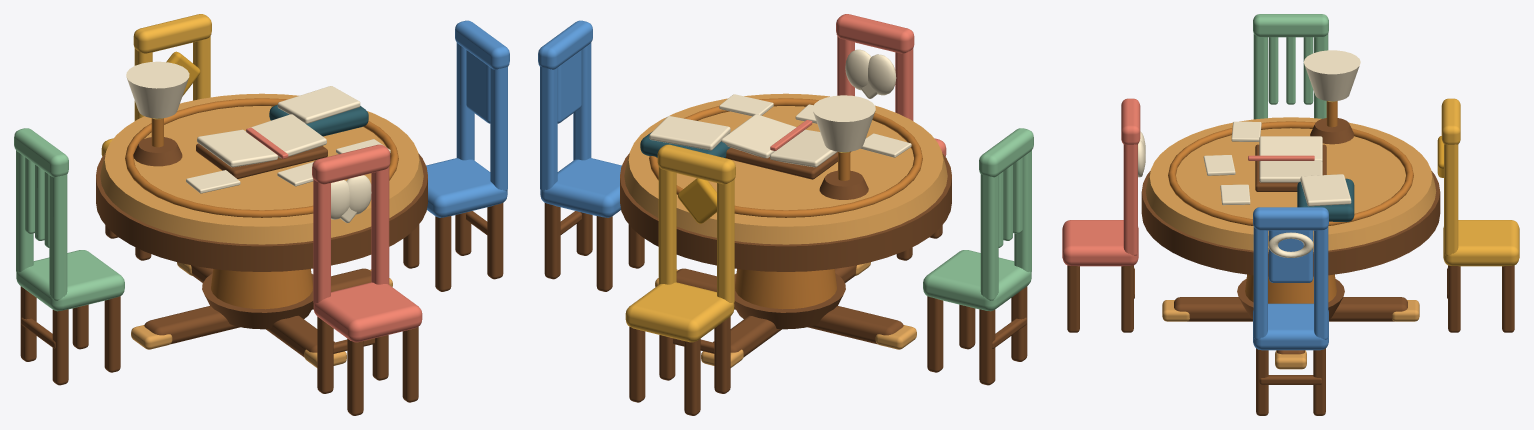
File: story-table.glb
3 renders of one model, left to right at view 1: azimuth 30°, elevation 25°; view 2: azimuth 150°, elevation 25°; view 3: azimuth 270°, elevation 25°, orthographic. The views are drawn at different scales.
Parts seen in each view (by area): view 1: round-tabletop-central-pedestal-and-finished-underside-surfa (×9), story-chair-4-surface-0, shallow-story-card-tray-and-three-loose-blank-cards-surface- (×4), story-chair-1-surface-0, story-chair-2-surface-0, small-warm-table-lamp-surface-4, story-chair-1-surface-12, story-chair-4-surface-10, story-chair-2-surface-10, story-chair-4-surface-12, story-chair-4-surface-14, story-chair-3-surface-14 (+27 smaller); view 2: round-tabletop-central-pedestal-and-finished-underside-surfa (×9), story-chair-3-surface-0, shallow-story-card-tray-and-three-loose-blank-cards-surface- (×4), story-chair-1-surface-0, story-chair-2-surface-0, small-warm-table-lamp-surface-4, story-chair-1-surface-10, story-chair-3-surface-12, story-chair-2-surface-12, story-chair-3-surface-10, story-chair-3-surface-14, story-chair-4-surface-14 (+28 smaller); view 3: round-tabletop-central-pedestal-and-finished-underside-surfa (×10), shallow-story-card-tray-and-three-loose-blank-cards-surface- (×5), story-chair-4-surface-0, story-chair-3-surface-0, story-chair-2-surface-0, small-warm-table-lamp-surface-4, story-chair-2-surface-16, story-chair-2-surface-14, story-chair-1-surface-14, story-chair-3-surface-12, story-chair-4-surface-10, story-chair-2-surface-10 (+20 smaller).
Boxes of the visible parts, x1=… form: round-tabletop-central-pedestal-and-finished-underside-surfa (×9): x1=96, y1=93, x2=427, y2=357; story-chair-4-surface-0: x1=313, y1=282, x2=422, y2=342; shallow-story-card-tray-and-three-loose-blank-cards-surface- (×4): x1=186, y1=86, x2=368, y2=193; story-chair-1-surface-0: x1=16, y1=250, x2=124, y2=311; story-chair-2-surface-0: x1=426, y1=158, x2=507, y2=217; small-warm-table-lamp-surface-4: x1=126, y1=61, x2=189, y2=118; story-chair-1-surface-12: x1=49, y1=174, x2=67, y2=300; story-chair-4-surface-10: x1=371, y1=166, x2=389, y2=284; story-chair-2-surface-10: x1=490, y1=66, x2=507, y2=191; story-chair-4-surface-12: x1=313, y1=179, x2=330, y2=303; story-chair-4-surface-14: x1=312, y1=144, x2=390, y2=184; story-chair-3-surface-14: x1=133, y1=14, x2=211, y2=53; round-tabletop-central-pedestal-and-finished-underside-surfa (×9): x1=620, y1=93, x2=951, y2=357; story-chair-3-surface-0: x1=625, y1=282, x2=734, y2=342; shallow-story-card-tray-and-three-loose-blank-cards-surface- (×4): x1=640, y1=94, x2=911, y2=158; story-chair-1-surface-0: x1=923, y1=250, x2=1031, y2=311; story-chair-2-surface-0: x1=540, y1=158, x2=621, y2=217; small-warm-table-lamp-surface-4: x1=812, y1=95, x2=875, y2=151; story-chair-1-surface-10: x1=980, y1=174, x2=998, y2=300; story-chair-3-surface-12: x1=658, y1=166, x2=676, y2=284; story-chair-2-surface-12: x1=540, y1=66, x2=557, y2=191; story-chair-3-surface-10: x1=717, y1=179, x2=734, y2=303; story-chair-3-surface-14: x1=657, y1=144, x2=735, y2=184; story-chair-4-surface-14: x1=836, y1=14, x2=914, y2=53; round-tabletop-central-pedestal-and-finished-underside-surfa (×10): x1=1141, y1=117, x2=1440, y2=369; shallow-story-card-tray-and-three-loose-blank-cards-surface- (×5): x1=1203, y1=121, x2=1354, y2=221; story-chair-4-surface-0: x1=1062, y1=220, x2=1138, y2=266; story-chair-3-surface-0: x1=1443, y1=220, x2=1519, y2=266; story-chair-2-surface-0: x1=1253, y1=303, x2=1328, y2=350; small-warm-table-lamp-surface-4: x1=1303, y1=50, x2=1360, y2=101; story-chair-2-surface-16: x1=1268, y1=230, x2=1313, y2=282; story-chair-2-surface-14: x1=1253, y1=207, x2=1328, y2=230; story-chair-1-surface-14: x1=1253, y1=14, x2=1328, y2=37; story-chair-3-surface-12: x1=1444, y1=144, x2=1458, y2=255; story-chair-4-surface-10: x1=1123, y1=144, x2=1137, y2=255; story-chair-2-surface-10: x1=1253, y1=227, x2=1267, y2=339.
Bounding box in the file's own units: 1.75 × 0.8942 × 1.67.
